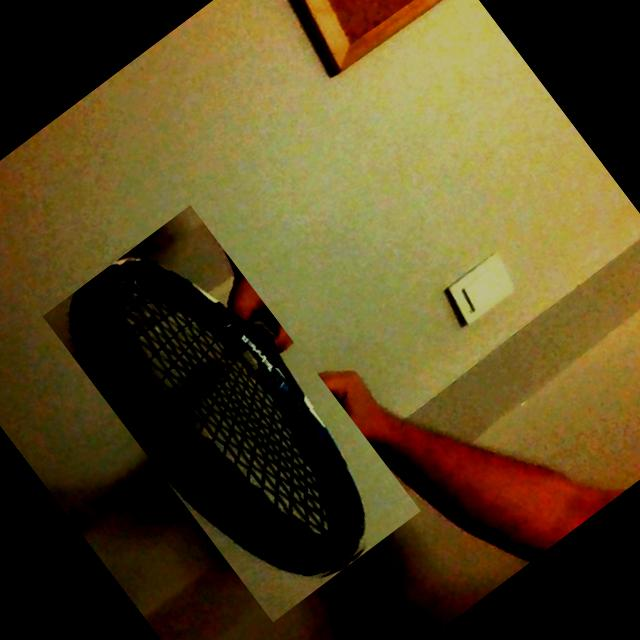TennisRacket: (42, 205, 420, 622)
